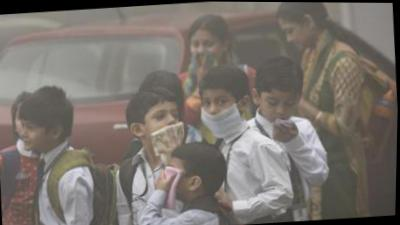NONE: (149, 105, 184, 149), (261, 86, 300, 125), (189, 34, 225, 67), (21, 116, 48, 152), (165, 162, 188, 201), (282, 20, 308, 52)
WRONG: (202, 87, 241, 132)
